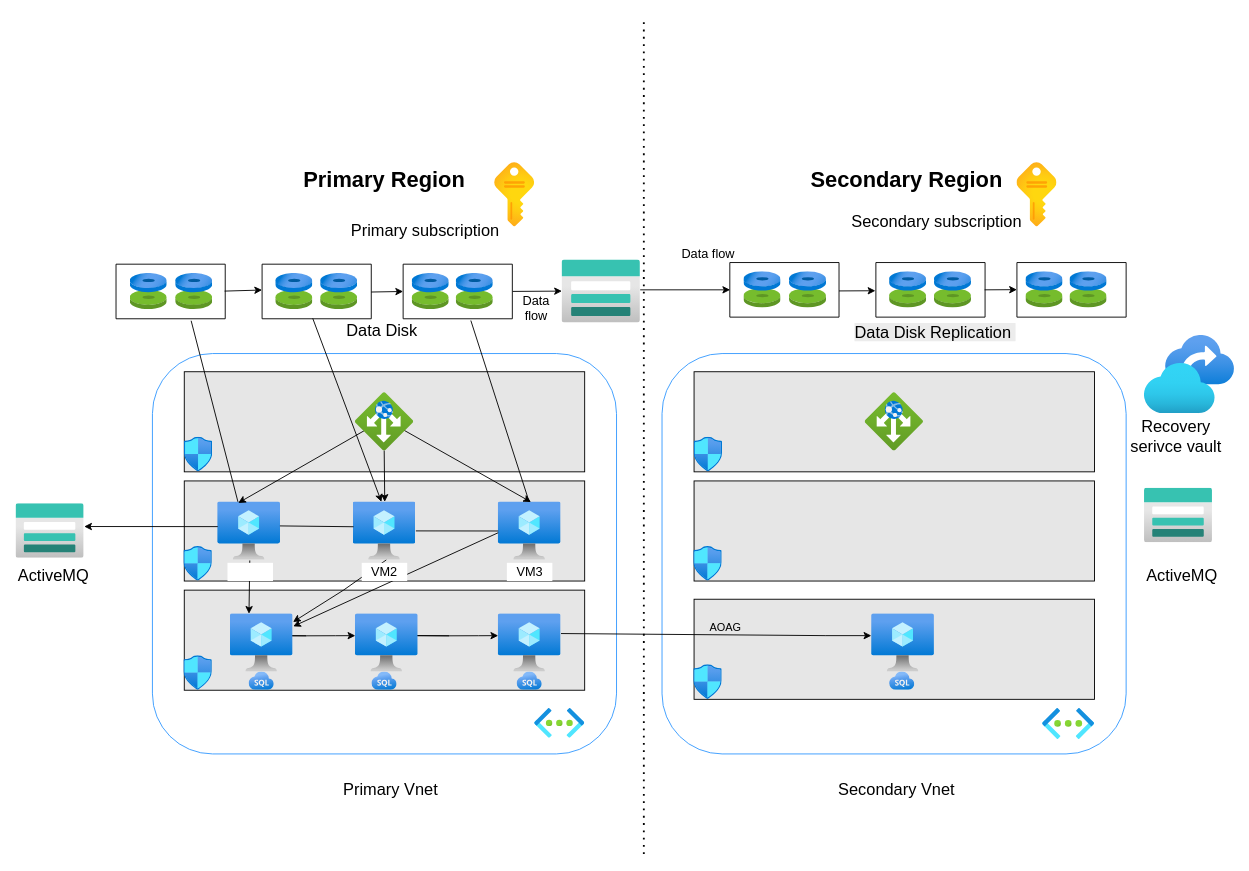
Some shapes in this 1249 by 871 pixel diagram are drawn without their labels. Each missing label, with the centre of its shape:
"Cache Storage" goes at point (584, 340).
"VM1" goes at point (250, 571).
